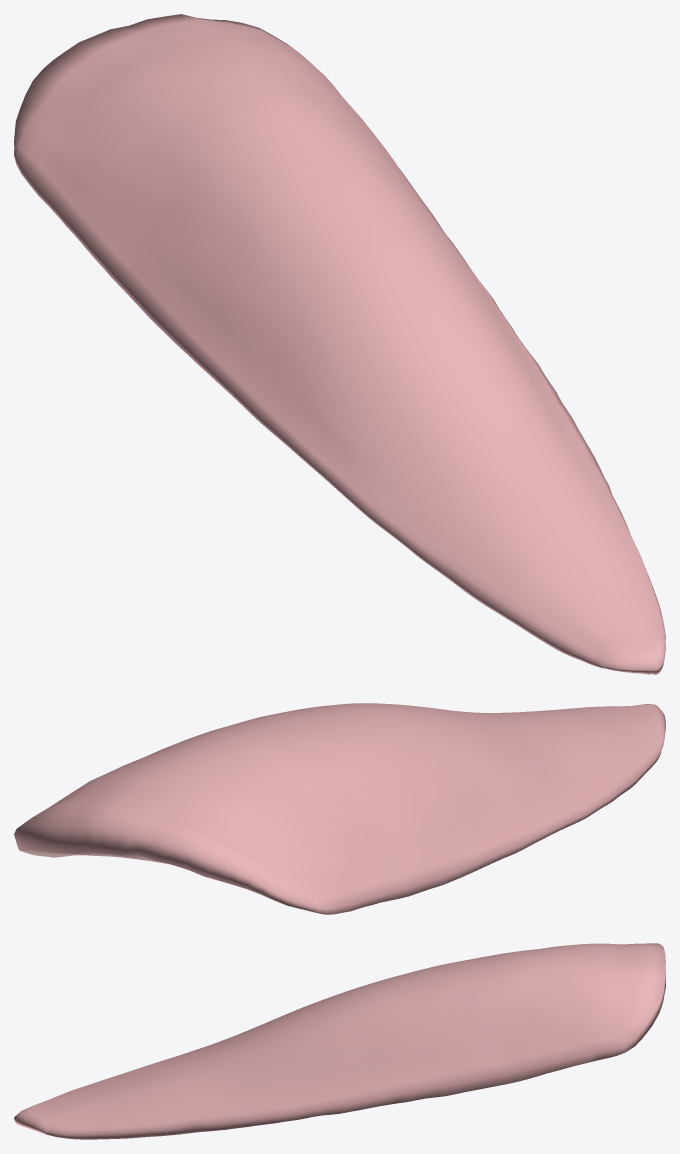
Rendered from Curved acrylic nail_29.7.2.fbx.
The picture shows the model from 3 angles, top to bottom: view 1: azimuth 30°, elevation 25°; view 2: azimuth 150°, elevation 25°; view 3: azimuth 270°, elevation 25°; orthographic projection. The views are drawn at different scales.
Visible parts, largest first — view 1: curved acrylic nail; view 2: curved acrylic nail; view 3: curved acrylic nail.
Part boxes in pixels (x1,y1,x2,y2): curved acrylic nail: [14, 14, 665, 674]; curved acrylic nail: [14, 703, 665, 914]; curved acrylic nail: [14, 943, 665, 1139].
Bounding box in the file's own units: 79.46 × 67.5 × 231.
1 material, 1 textured.
